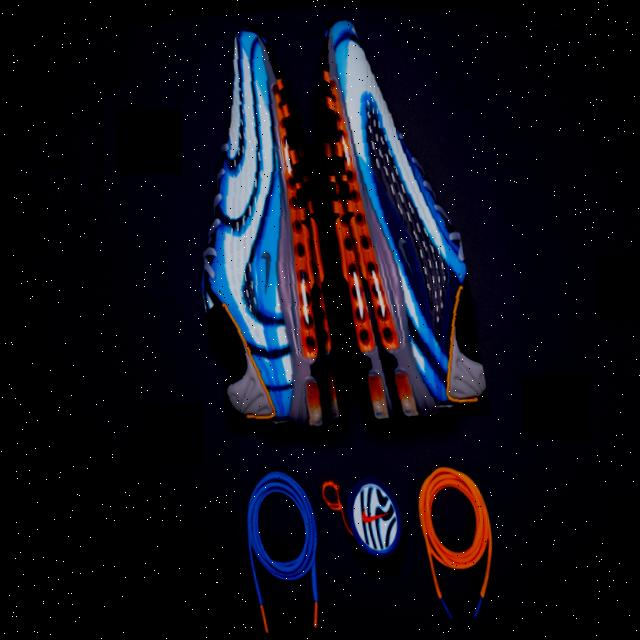shoe: (155, 12, 350, 437), (294, 5, 485, 425)
